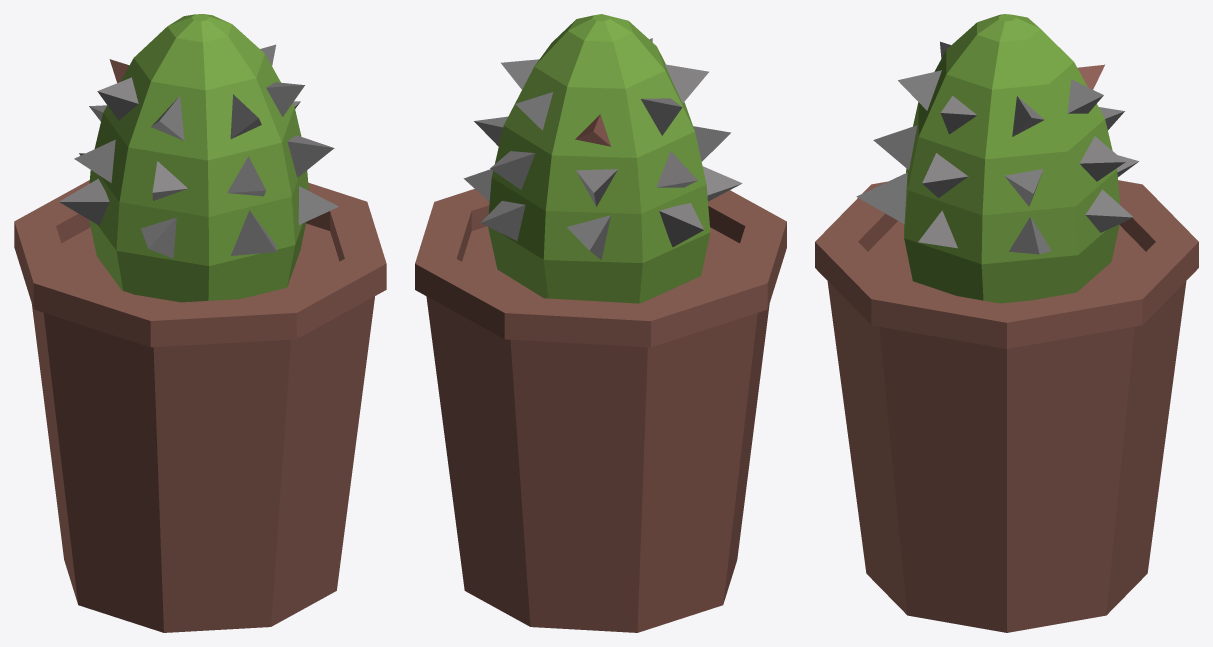
The model's file is CactusInPot.fbx.
3 renders of one model, left to right at view 1: azimuth 30°, elevation 25°; view 2: azimuth 150°, elevation 25°; view 3: azimuth 270°, elevation 25°, orthographic.
Visible parts, largest first — view 1: Plant; view 2: Plant; view 3: Plant.
Boxes of the visible parts, <box> form: Plant: <box>14,14,386,632</box>; Plant: <box>415,14,786,632</box>; Plant: <box>815,14,1198,632</box>.
Size of the model in its own units: 29.74 by 47.52 by 29.74.
